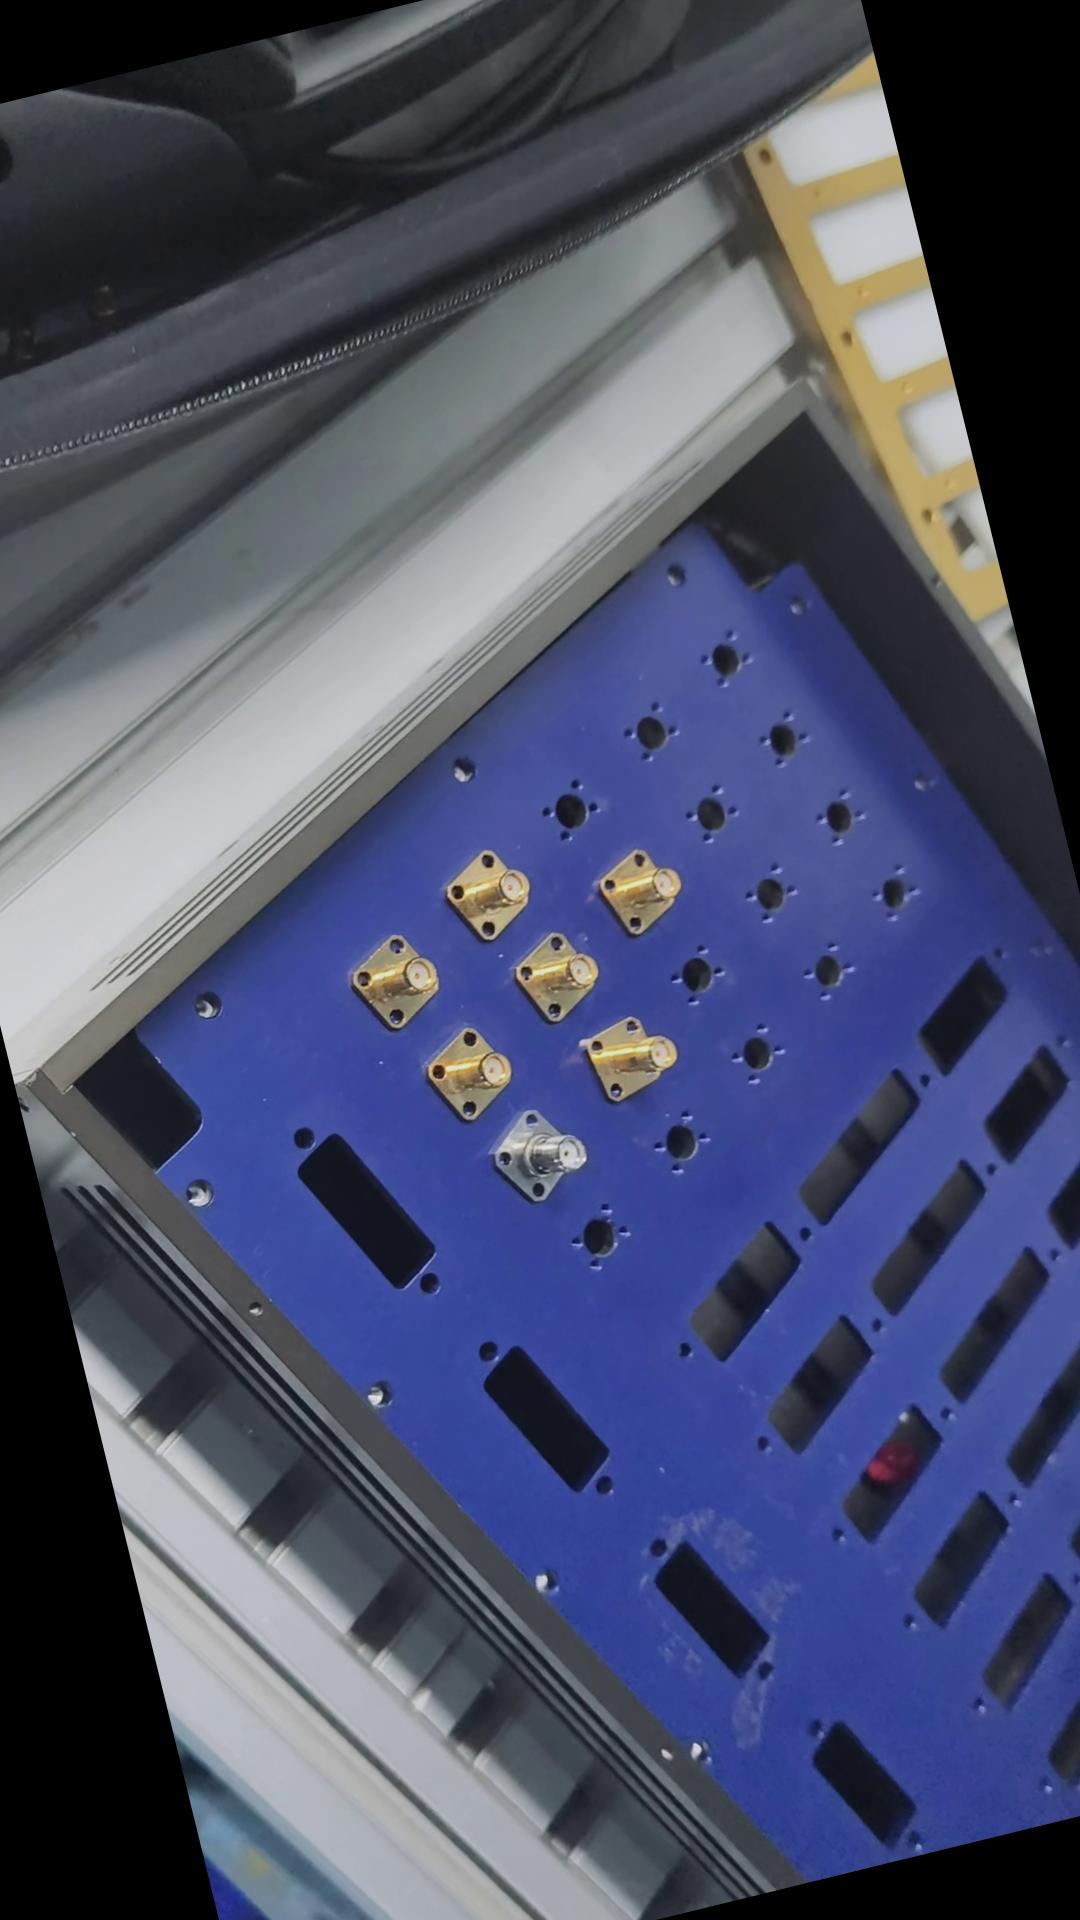SMA: (476, 1091, 599, 1215), (332, 916, 451, 1039), (413, 1010, 533, 1129), (504, 920, 617, 1033), (589, 837, 695, 945), (440, 837, 546, 944), (578, 1010, 680, 1106)
